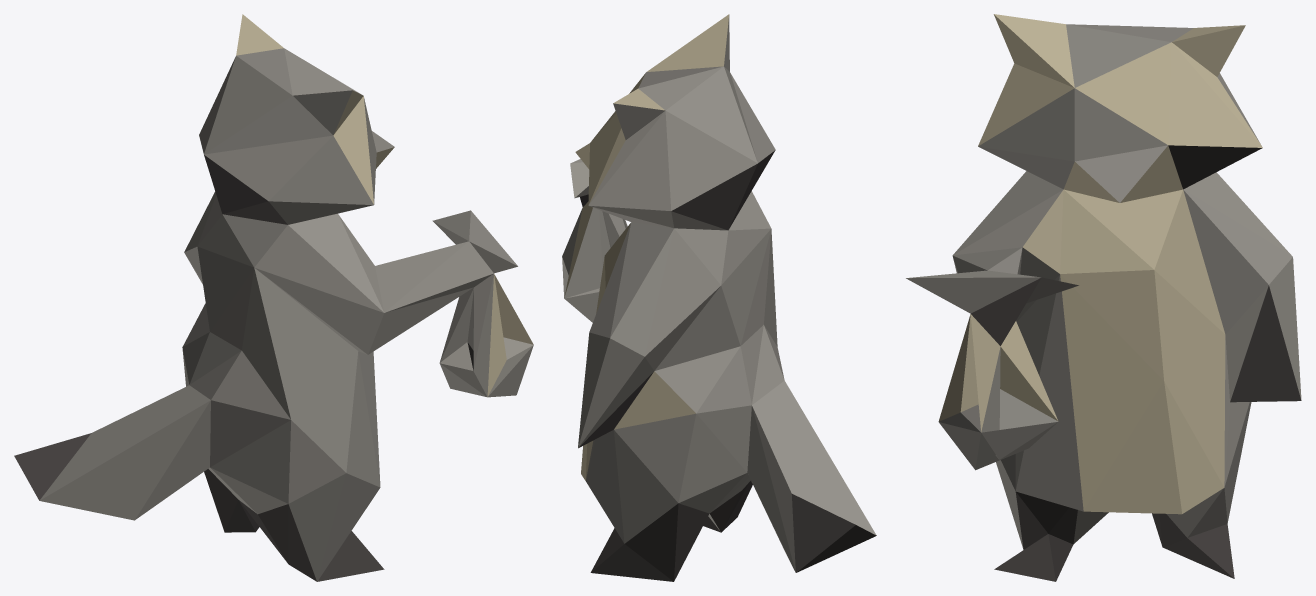
The picture shows the model from 3 angles, left to right: view 1: azimuth 30°, elevation 25°; view 2: azimuth 150°, elevation 25°; view 3: azimuth 270°, elevation 25°; orthographic projection. The views are drawn at different scales.
Visible parts, largest first — view 1: lion-200.001; view 2: lion-200.001; view 3: lion-200.001.
Boxes of the visible parts, <box> form: lion-200.001: <box>14,14,533,581</box>; lion-200.001: <box>562,14,876,581</box>; lion-200.001: <box>906,14,1301,581</box>.
Size of the model in its own units: 0.8931 by 1.04 by 0.6774.
